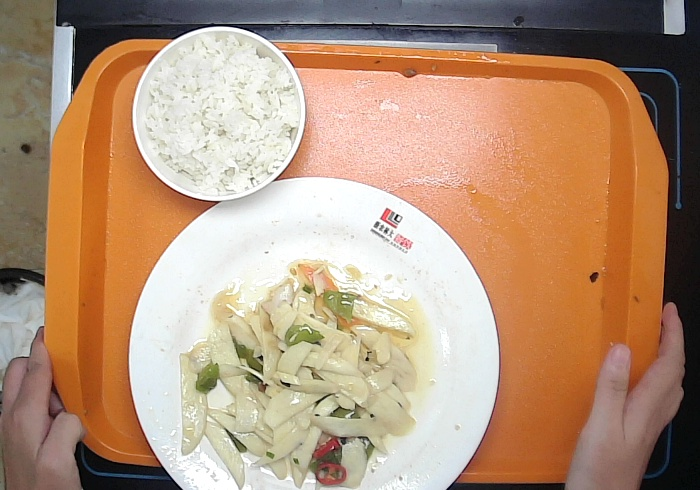ZNLD-Da_Yuan_Pan: (125, 174, 504, 490)
ZNLD-Fan_Wan: (129, 24, 308, 203)
